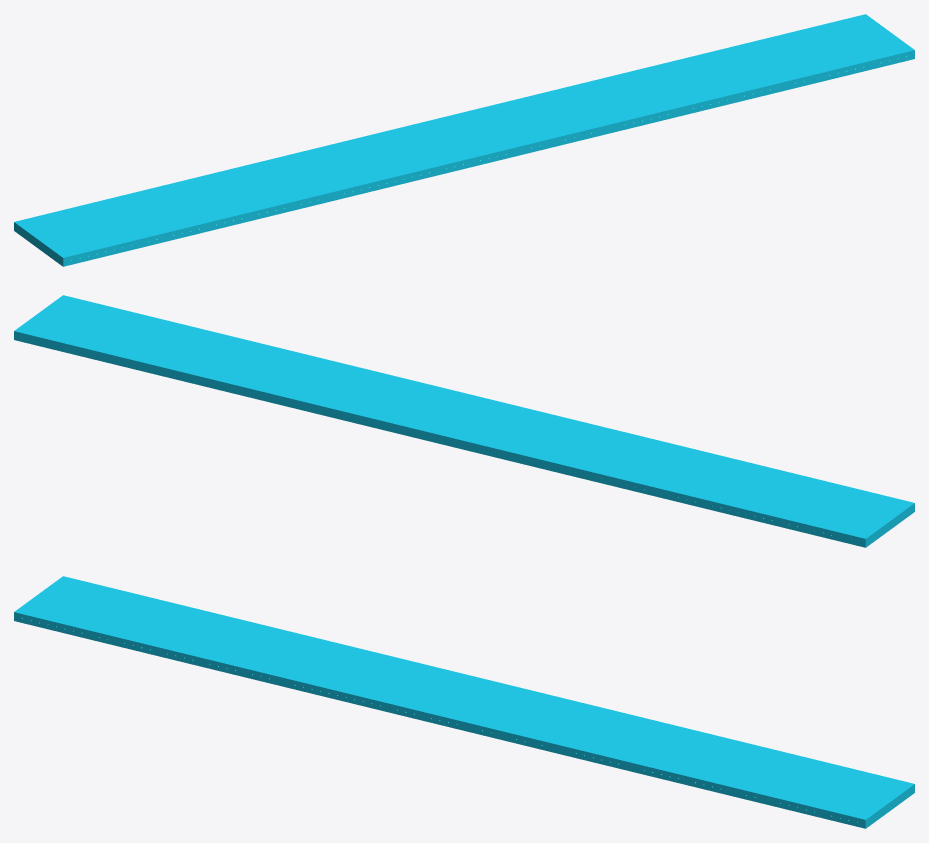
File: floor.glb
3 renders of one model, top to bottom at view 1: azimuth 30°, elevation 25°; view 2: azimuth 150°, elevation 25°; view 3: azimuth 330°, elevation 25°, orthographic.
Parts seen in each view (by area): view 1: Cube; view 2: Cube; view 3: Cube.
Boxes of the visible parts, x1=… form: Cube: x1=14, y1=14, x2=914, y2=266; Cube: x1=14, y1=295, x2=914, y2=547; Cube: x1=14, y1=576, x2=914, y2=828.
Size of the model in its own units: 200 by 2 by 20.04.
